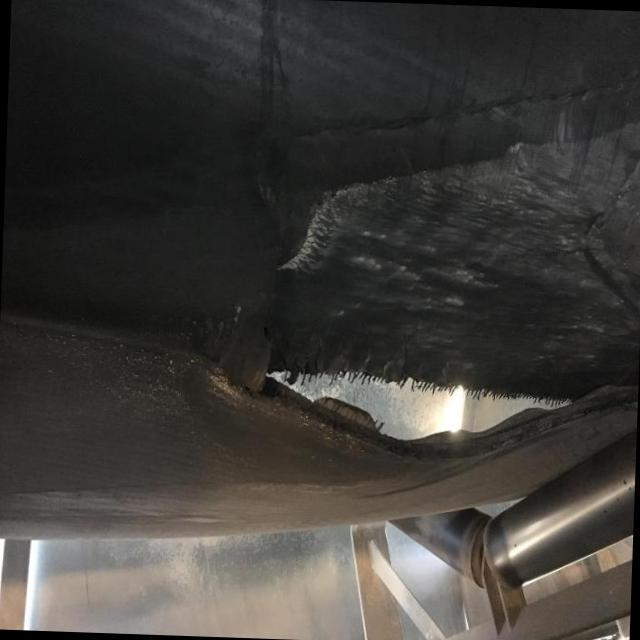Tear: (206, 352, 594, 466)
